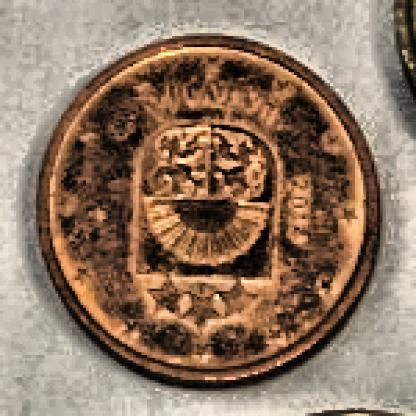coin: (35, 32, 384, 386)
